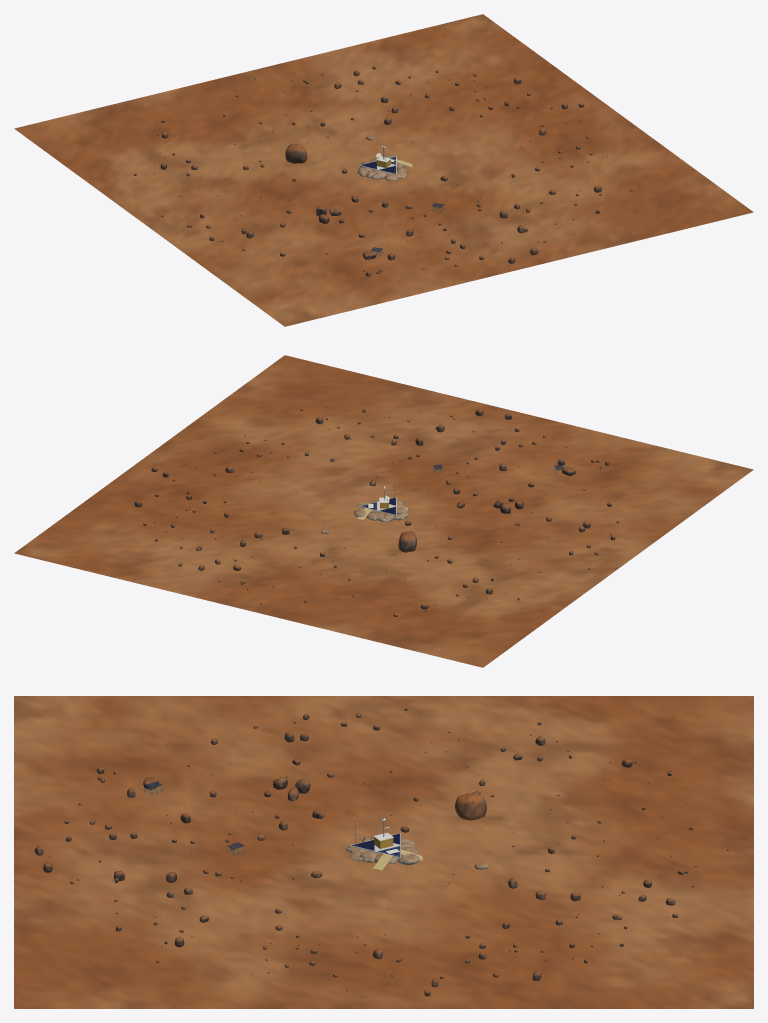
Rendered from ares-vallis.glb.
3 renders of one model, top to bottom at view 1: azimuth 30°, elevation 25°; view 2: azimuth 150°, elevation 25°; view 3: azimuth 270°, elevation 25°, orthographic. The views are drawn at different scales.
Parts seen in each view (by area): view 1: ground, lander-airbags, lander-body; view 2: ground, lander-body, lander-airbags; view 3: ground, lander-body, lander-airbags, rock-yogi.
Part boxes in pixels (<box>): ground: <box>14,14,753,326</box>; lander-airbags: <box>357,154,406,181</box>; lander-body: <box>359,145,412,174</box>; ground: <box>14,355,753,667</box>; lander-body: <box>357,482,396,520</box>; lander-airbags: <box>354,500,408,521</box>; ground: <box>14,696,753,1008</box>; lander-body: <box>349,818,422,870</box>; lander-airbags: <box>345,833,419,865</box>; rock-yogi: <box>455,792,486,820</box>.
Size of the model in its own units: 30 by 1.52 by 30.
